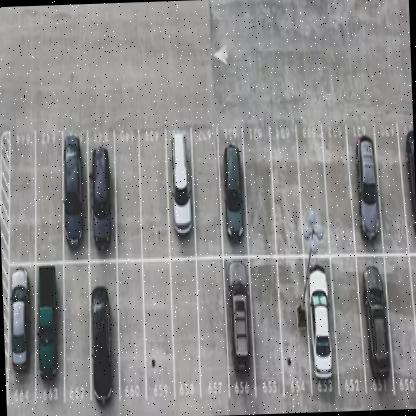Car: (168, 138, 194, 244), (308, 270, 330, 378), (364, 267, 386, 373), (88, 158, 113, 248), (228, 278, 251, 375), (224, 140, 244, 246), (38, 274, 59, 364), (10, 278, 31, 368), (94, 290, 112, 389), (65, 135, 82, 234)
Empty: (352, 133, 376, 235), (10, 146, 32, 250), (140, 146, 164, 237), (121, 292, 142, 392), (330, 270, 354, 354), (200, 288, 221, 382), (176, 294, 197, 387), (249, 146, 270, 235), (38, 156, 59, 244), (149, 288, 168, 382), (380, 145, 401, 229), (70, 291, 89, 382), (299, 152, 318, 240), (283, 284, 302, 366), (392, 281, 408, 377), (260, 282, 278, 366), (194, 158, 214, 233), (117, 148, 134, 227), (333, 146, 348, 235), (276, 152, 291, 220)
